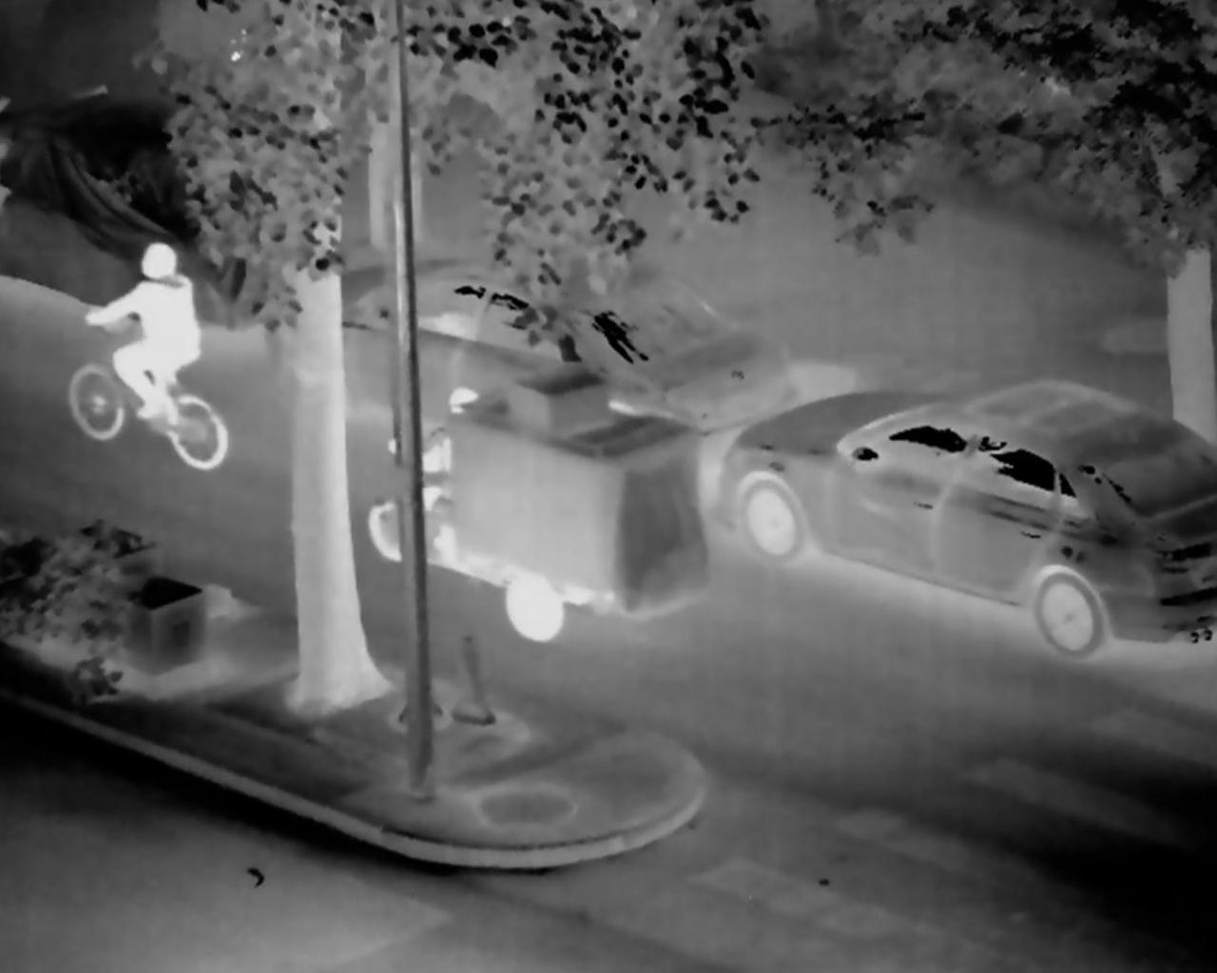person: (83, 239, 210, 436), (400, 417, 454, 528)
